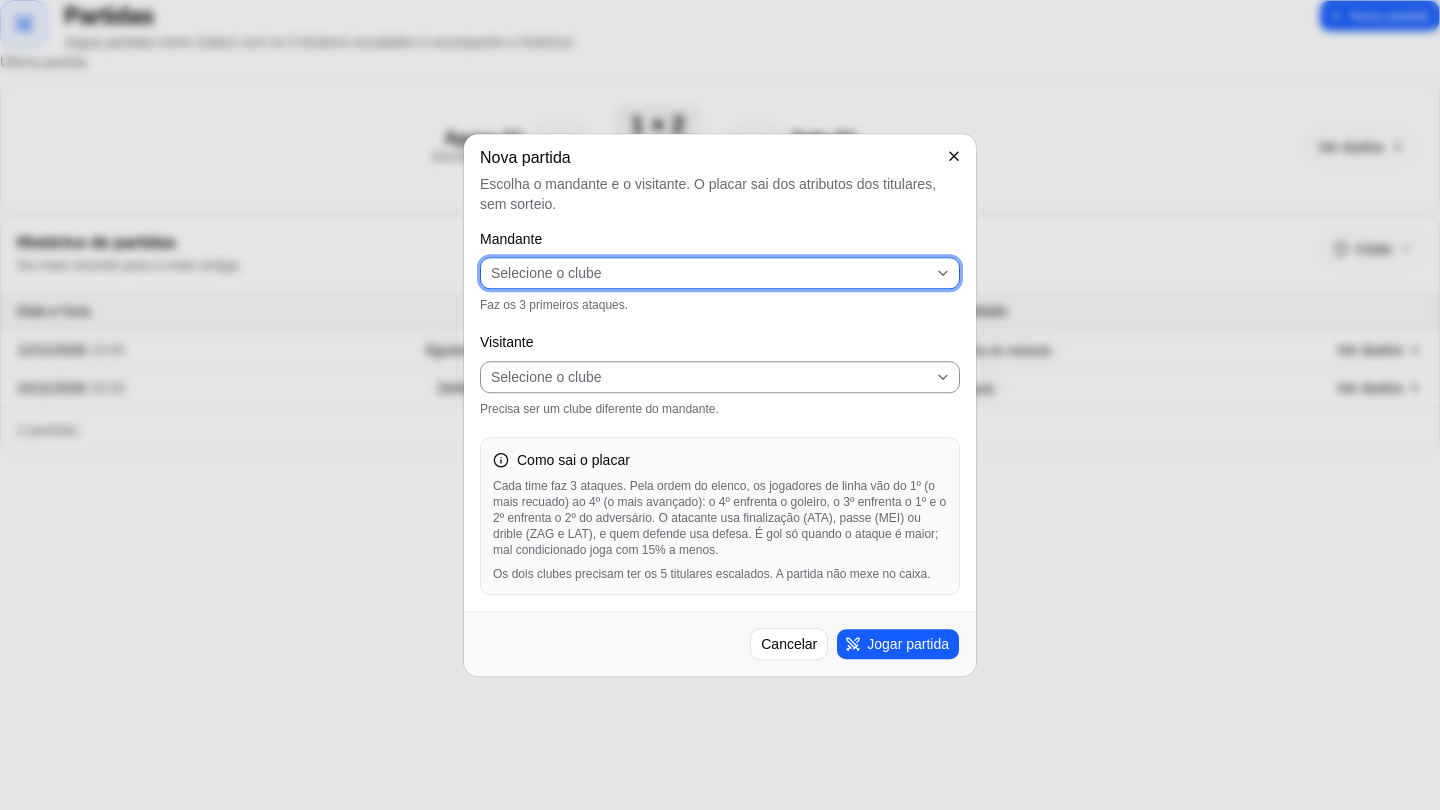
Test: nova partida › mostra o message da API quando um clube não tem escalação completa
Click the dropdown named "Mandante": [546, 274] box x1=480 y1=258 x2=960 y2=290
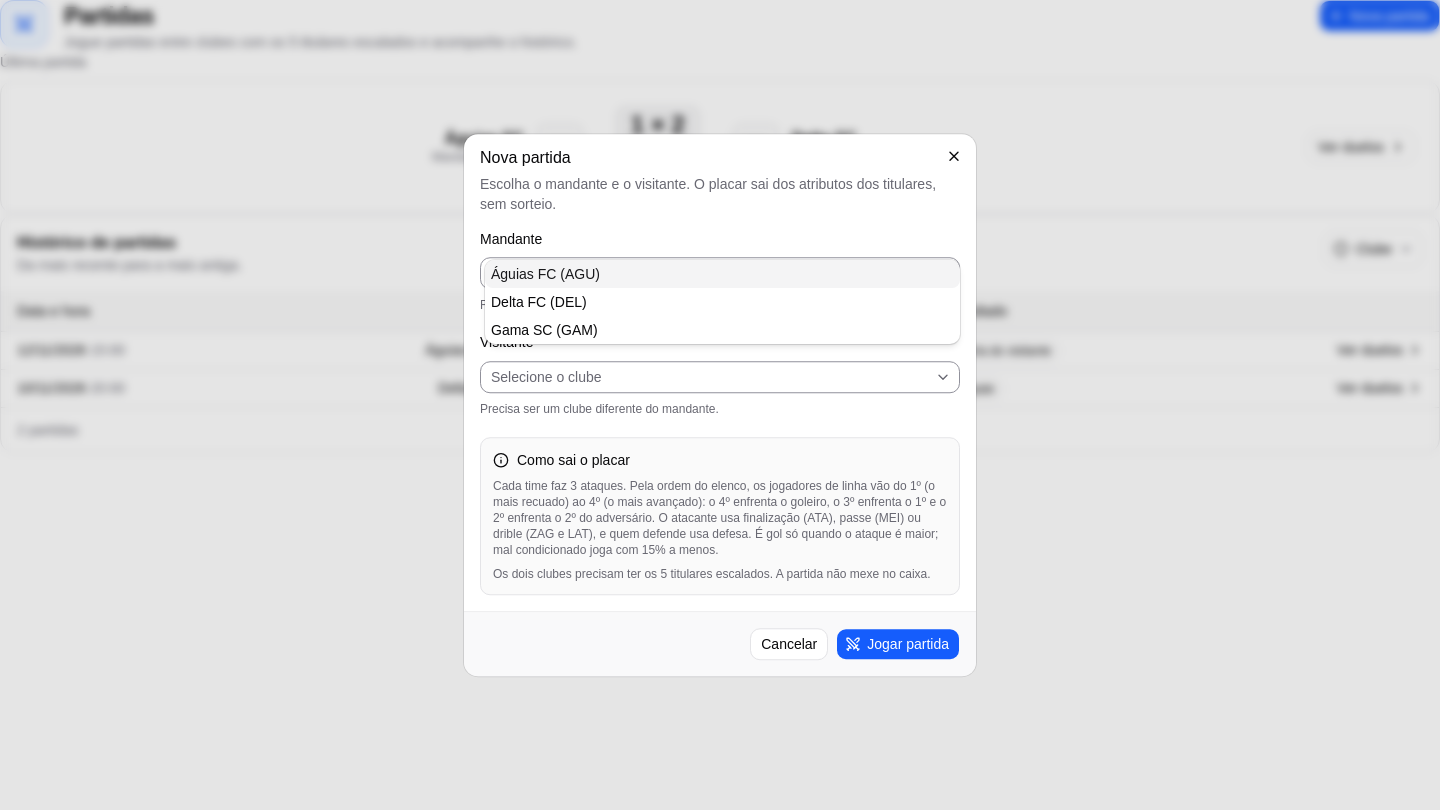
Click the option "Gama SC (GAM)": [544, 330] box x1=491 y1=322 x2=598 y2=338
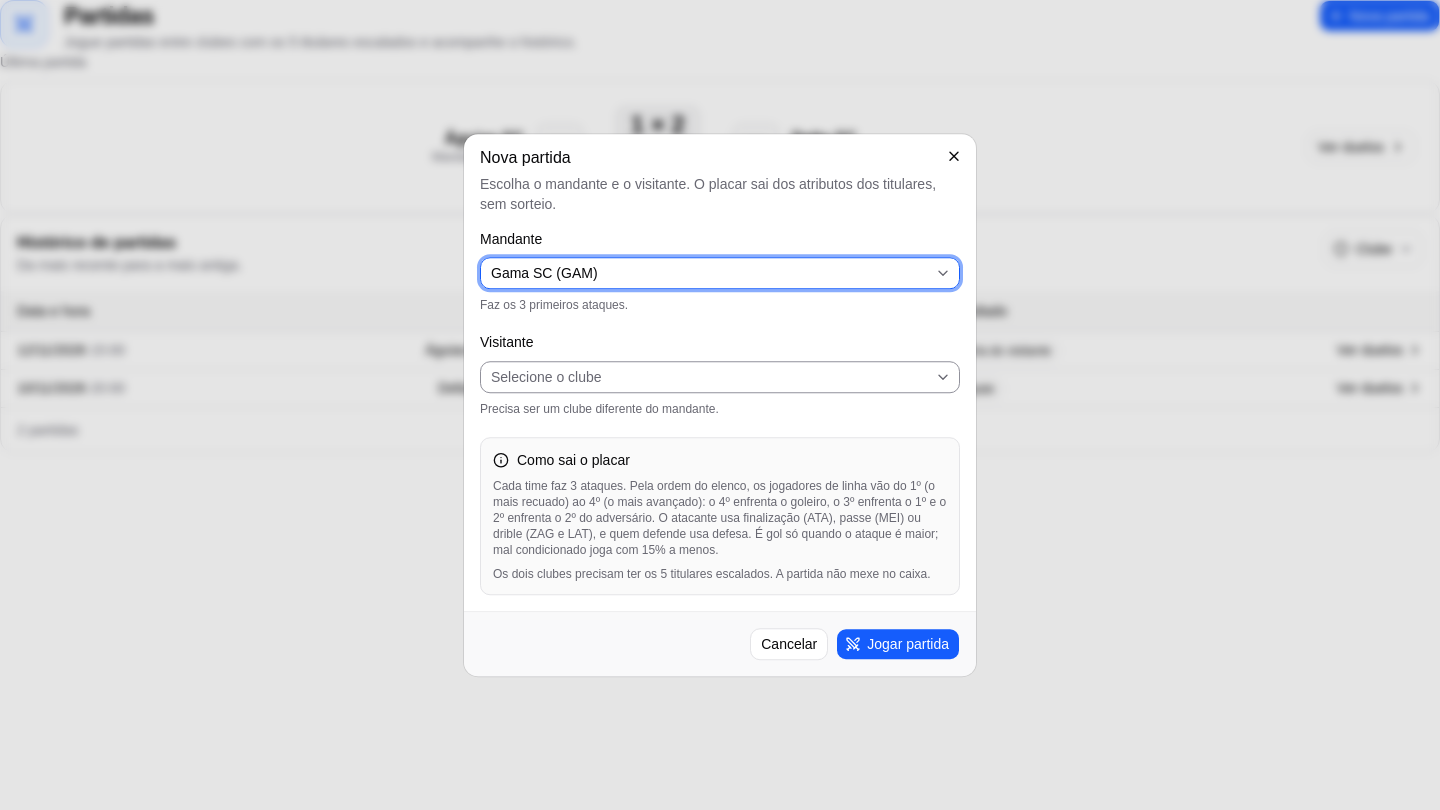
Click the dropdown named "Visitante": [546, 377] box x1=480 y1=361 x2=960 y2=393
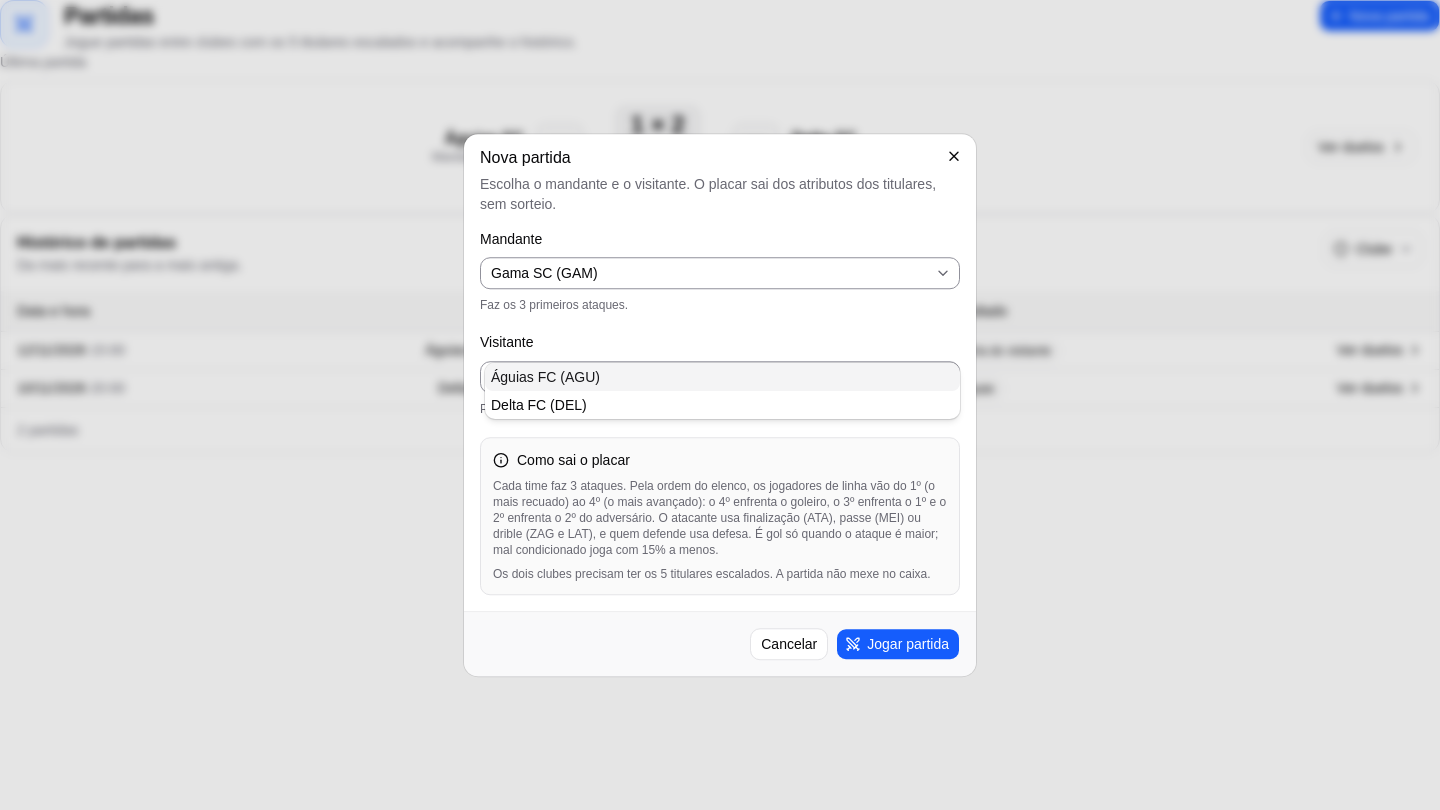
Click the option "Águias FC (AGU)": [524, 377] box x1=485 y1=363 x2=960 y2=391
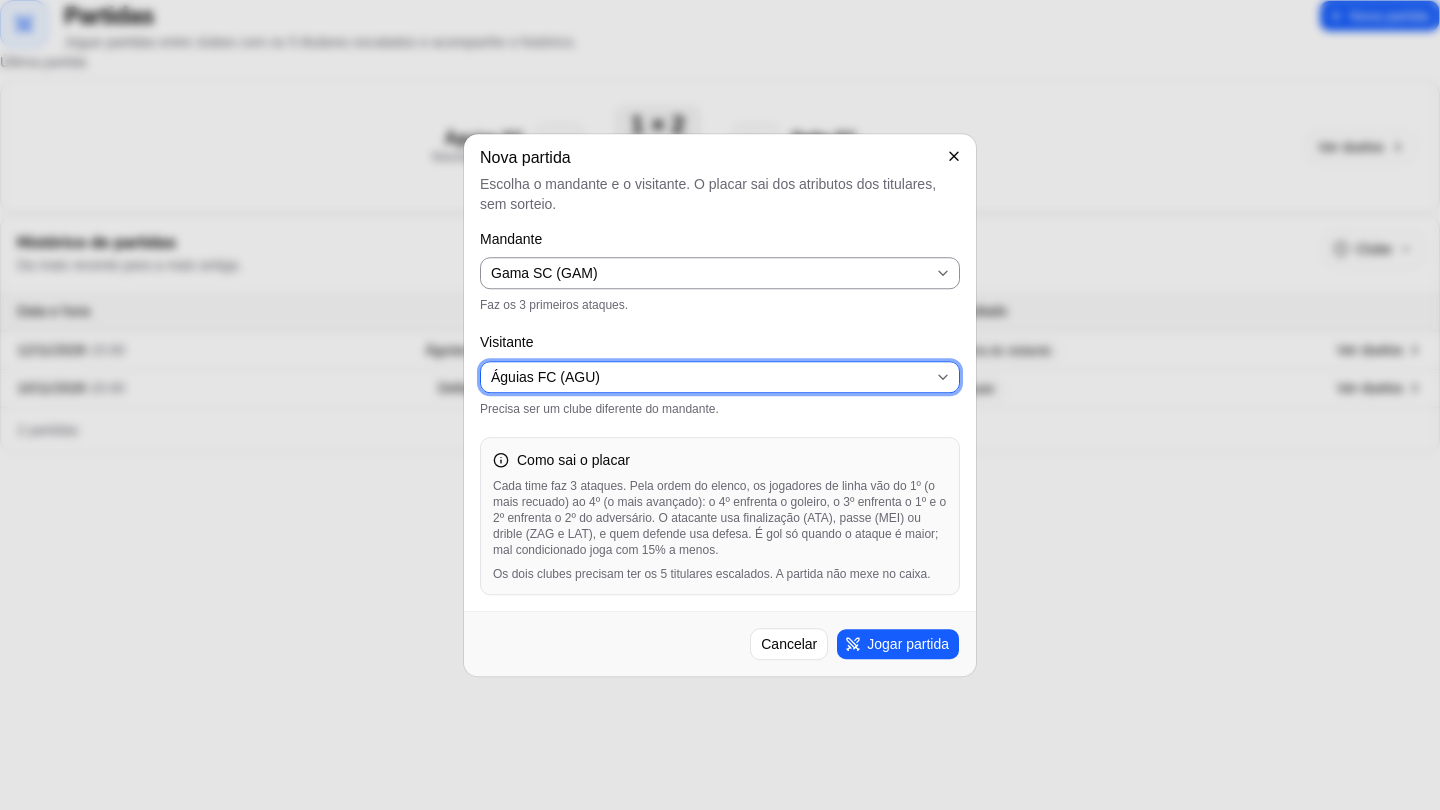
Click the button "Jogar partida": [898, 644] box x1=836 y1=628 x2=960 y2=660
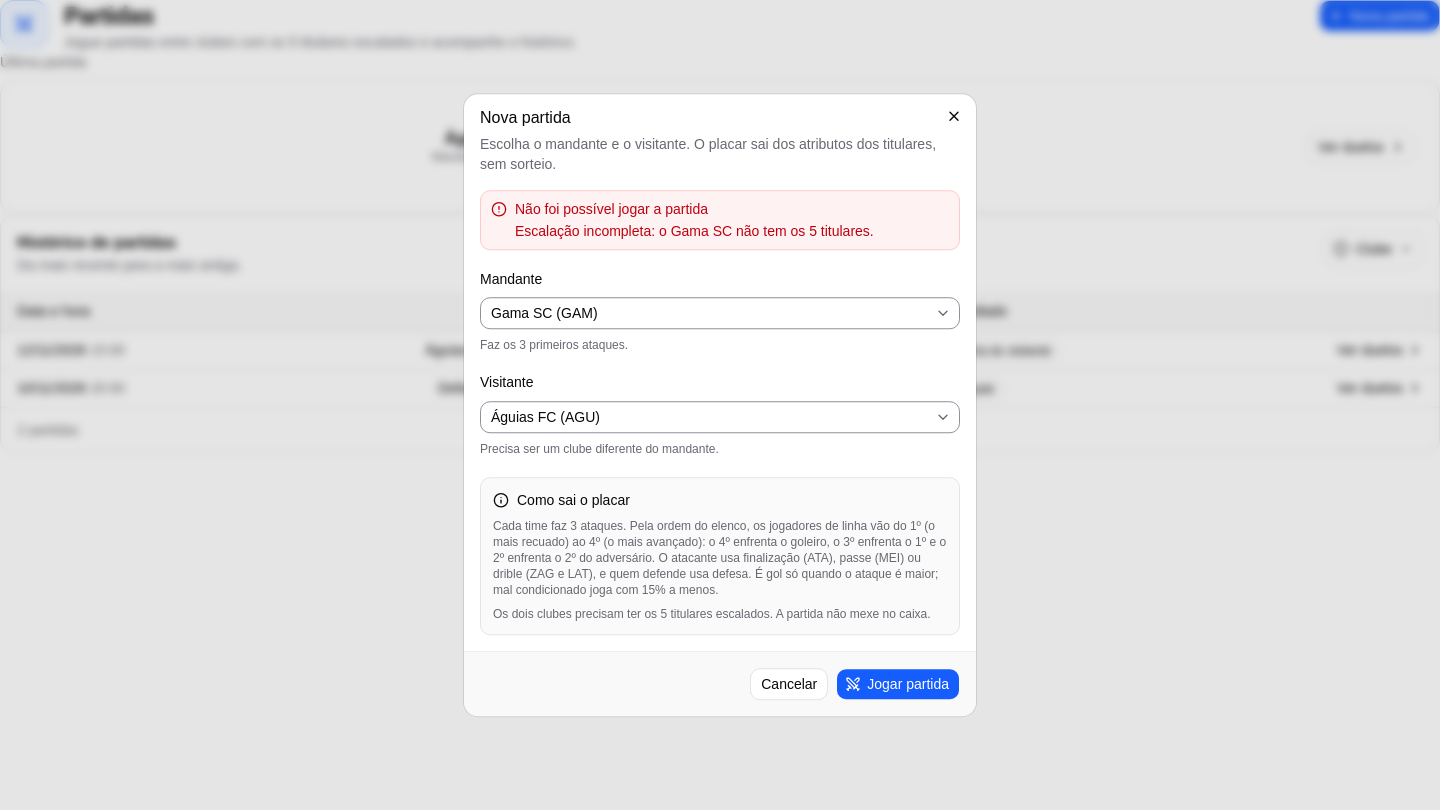
Expected: the text "Não foi possível jogar a partida" is shown, x1=515 y1=201 x2=708 y2=217
Expected: the text "Escalação incompleta: o Gama SC não tem os 5 titulares." is shown, x1=515 y1=223 x2=874 y2=239
